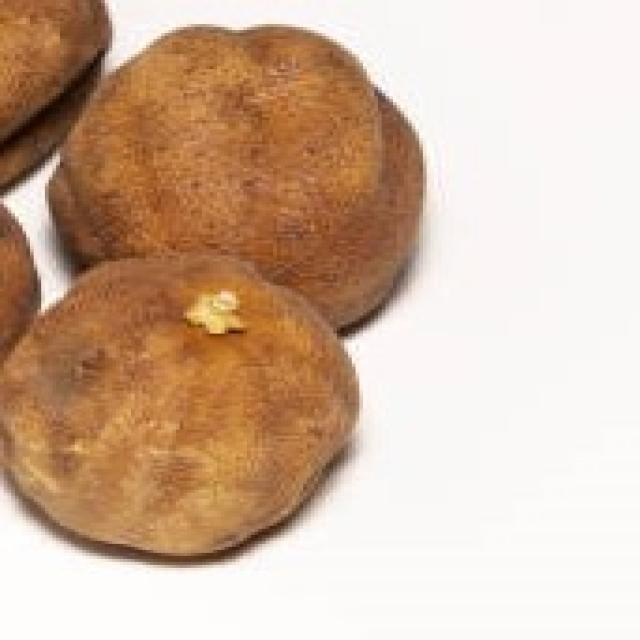overripe: (45, 21, 428, 323), (0, 246, 365, 558)
